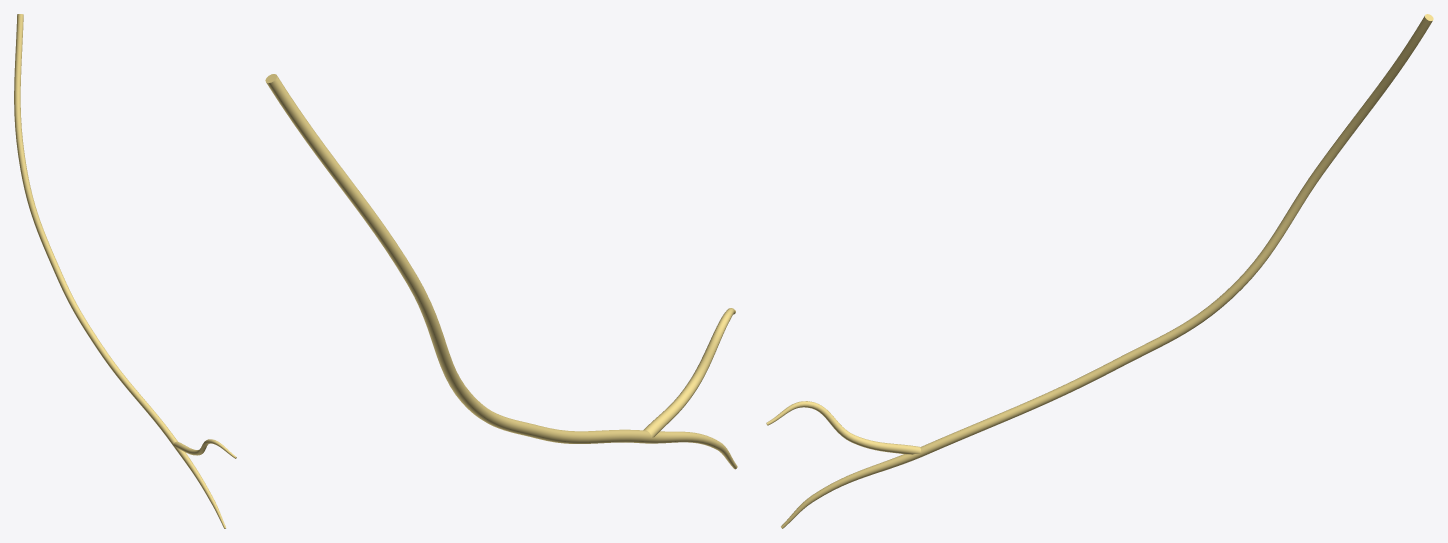
3 views of the same model, side by side, from view 1: azimuth 30°, elevation 25°; view 2: azimuth 150°, elevation 25°; view 3: azimuth 270°, elevation 25° (orthographic). The views are drawn at different scales.
Visible parts, largest first — view 1: ZA_3b7e962ff6e8140e; view 2: ZA_3b7e962ff6e8140e; view 3: ZA_3b7e962ff6e8140e.
Boxes of the visible parts, x1,y1,x2,y2 form: ZA_3b7e962ff6e8140e: (14, 14, 236, 528); ZA_3b7e962ff6e8140e: (265, 74, 737, 469); ZA_3b7e962ff6e8140e: (766, 14, 1433, 528).
Bounding box in the file's own units: 0.00426 × 0.0355 × 0.041.
